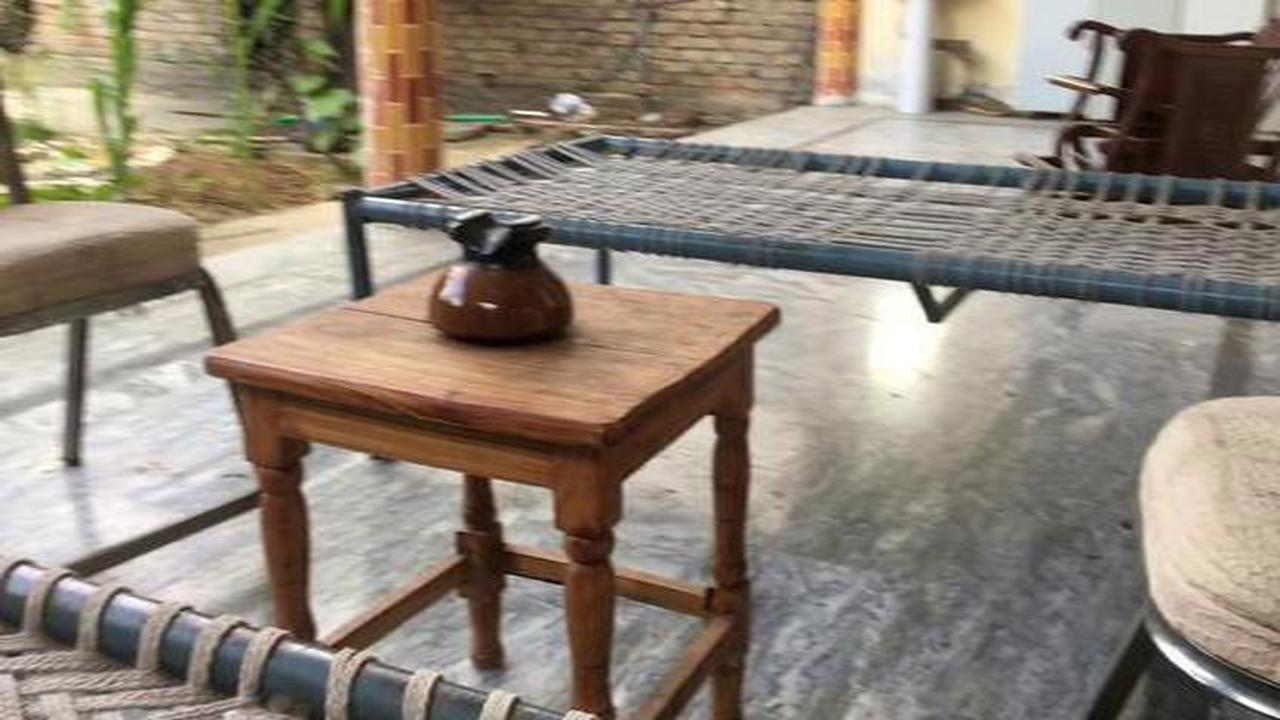insulator_pin: (425, 194, 582, 345)
